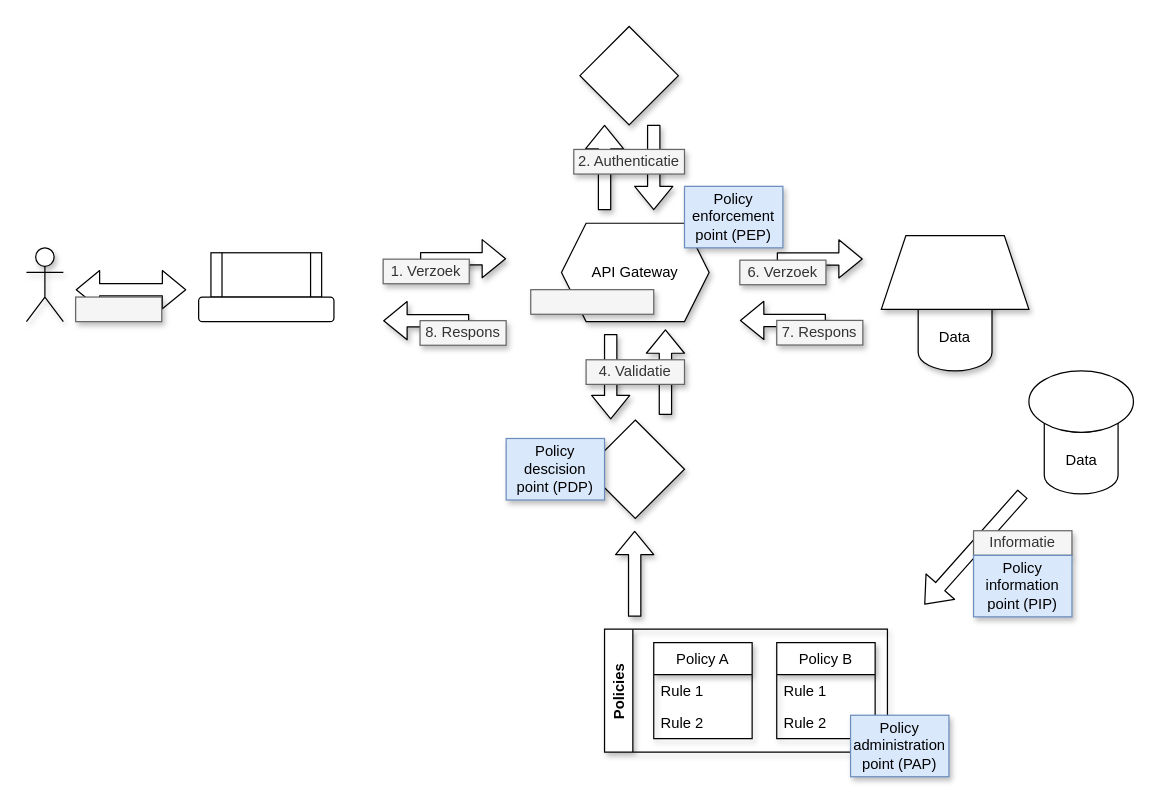
This 1155x807 diagram has some shape labels left out. Each missing label, with the centre of its shape:
3/5. Handhaving: [593,303]
Actor: [45,286]
API: [955,273]
Client: [266,274]
HR: [1080,401]
IDP: [630,76]
Interactie: [119,310]
PE: [636,470]
